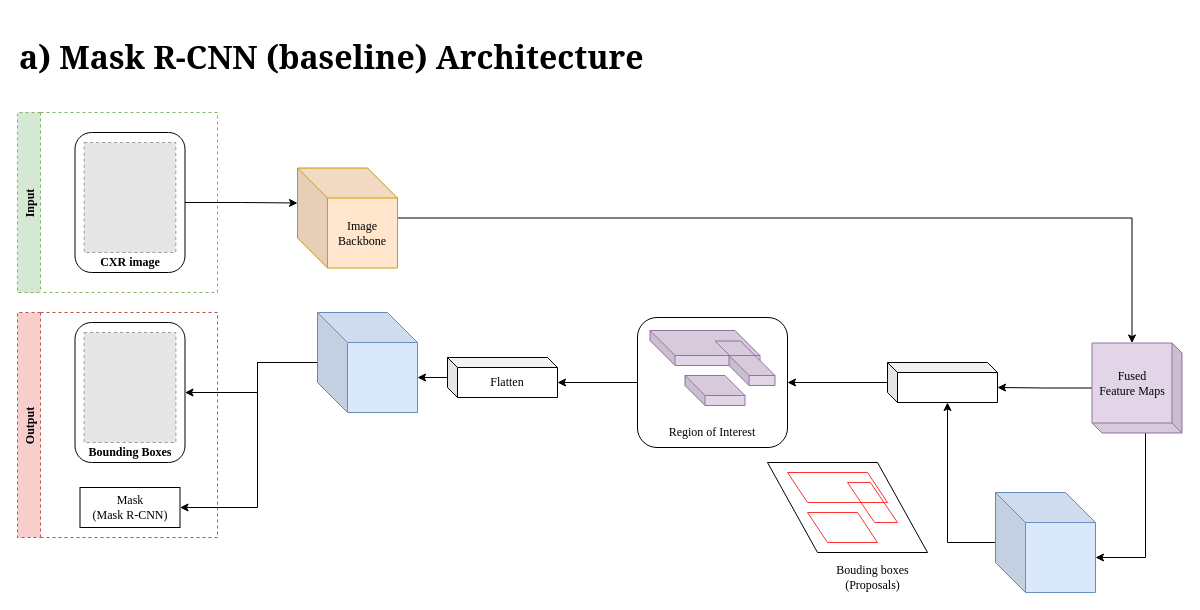
Image size: 1200x610. Some labels were removed from this diagram. Grey dashed boxes stand in for pictures. Here are the shapes that lost their labels. From the top down, the box of each, then its label:
(316, 312, 418, 412): Classifier
(886, 362, 998, 402): ROI Pooling
(994, 492, 1096, 592): Region Proposal Network (CNNs)
